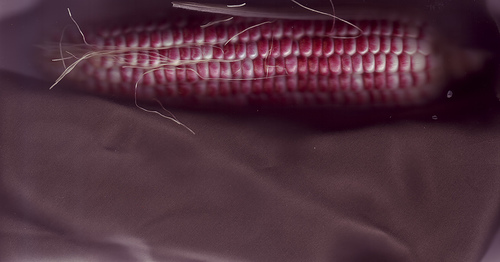corn: (38, 20, 491, 113)
